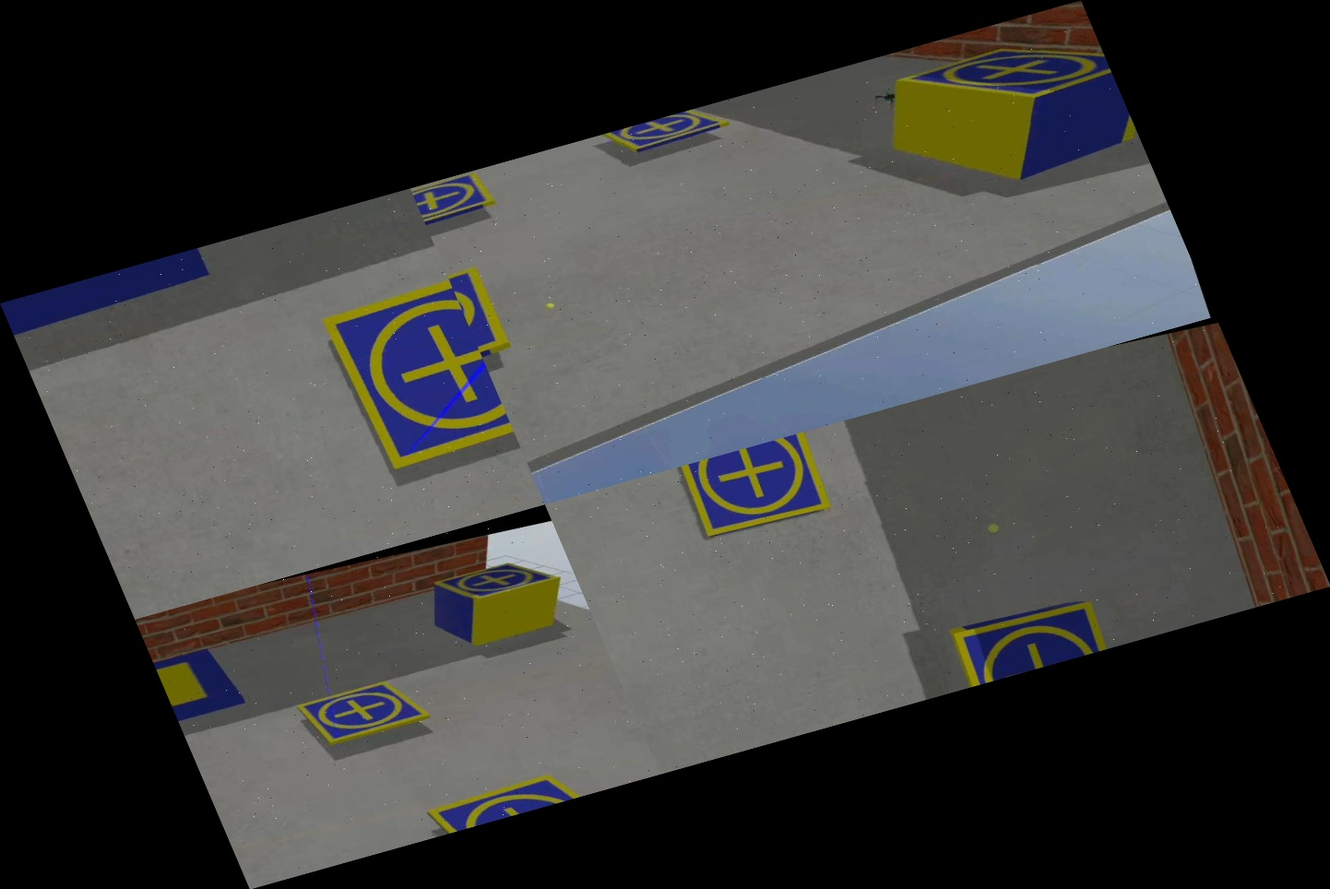large_base: (148, 627, 259, 735)
small_base: (303, 267, 520, 485), (887, 18, 1116, 141), (410, 743, 634, 839), (672, 431, 841, 546), (941, 589, 1114, 688), (291, 666, 438, 756), (429, 545, 566, 620), (600, 101, 733, 167), (410, 167, 502, 231)
